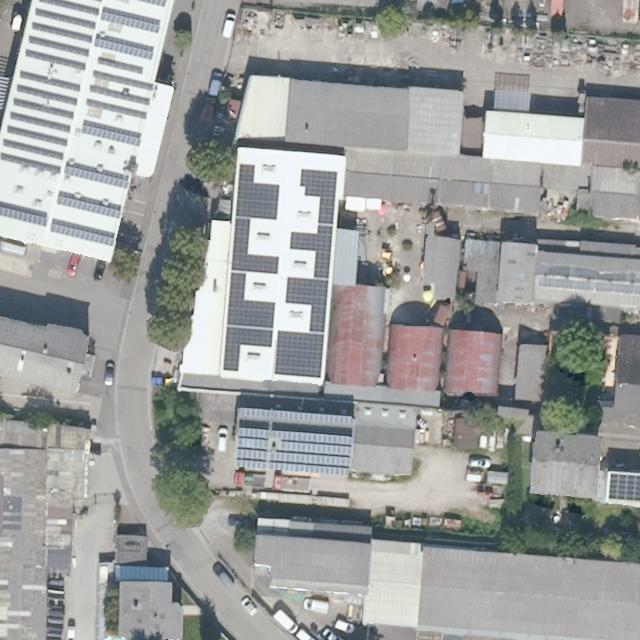PV: (1, 0, 104, 175), (270, 166, 341, 382), (218, 161, 284, 374), (231, 424, 355, 480), (83, 51, 159, 124), (53, 186, 129, 224), (233, 405, 356, 428), (60, 157, 133, 194), (48, 214, 119, 250), (78, 116, 149, 150), (90, 29, 157, 65), (96, 3, 163, 37), (3, 198, 49, 230), (604, 470, 639, 506), (123, 1, 167, 9)
